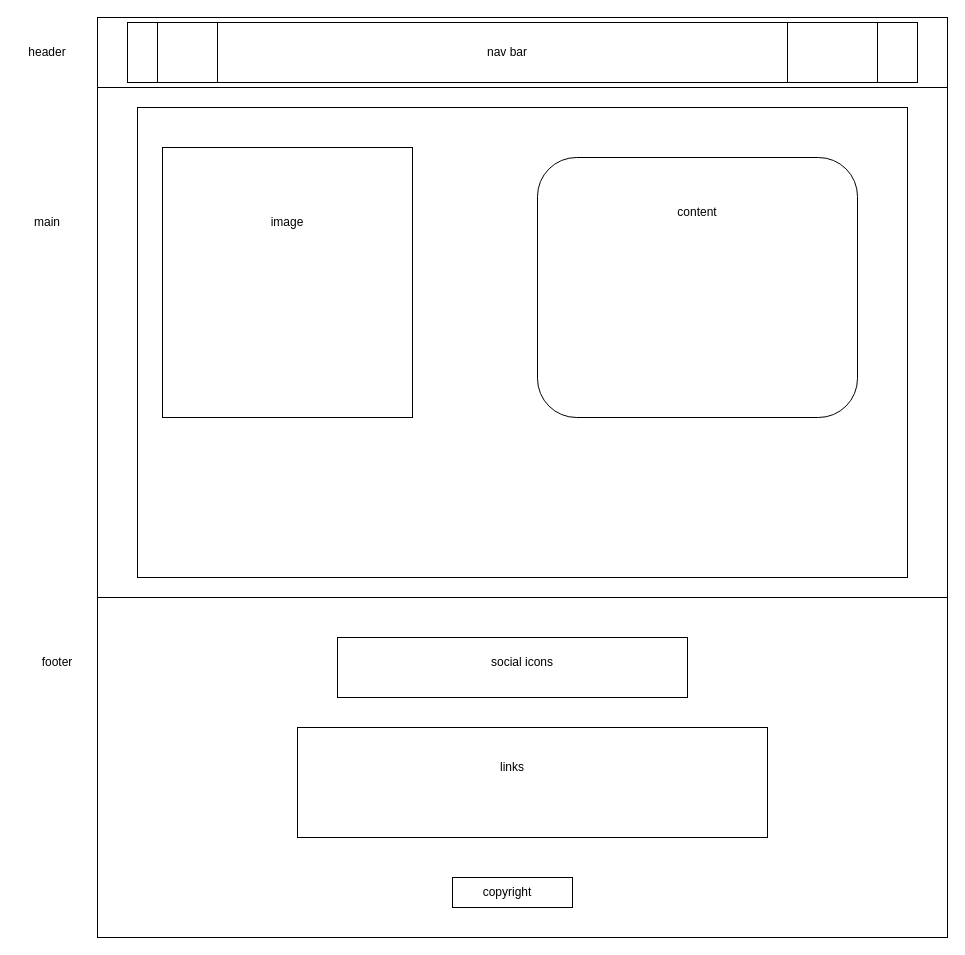
Some shapes in this 965 by 955 pixel diagram are drawn without their labels. Each missing label, with the centre of its shape:
"hanburger" goes at (832,52).
"logo" goes at (187,52).
